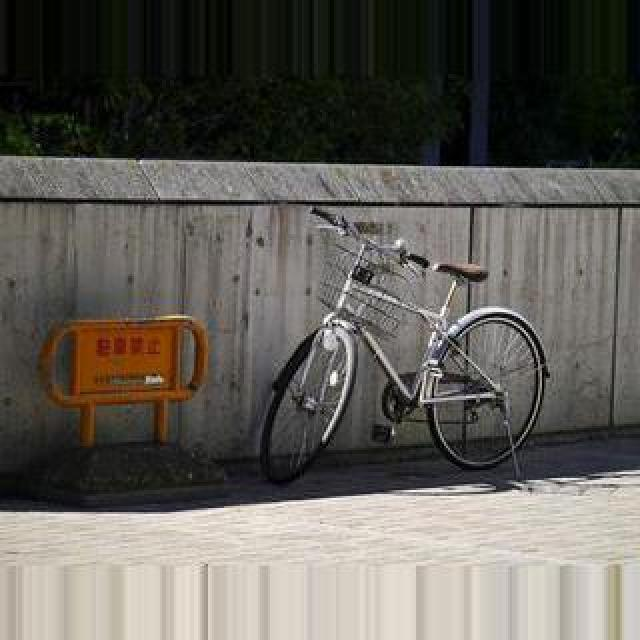Person: (255, 217, 557, 485)
